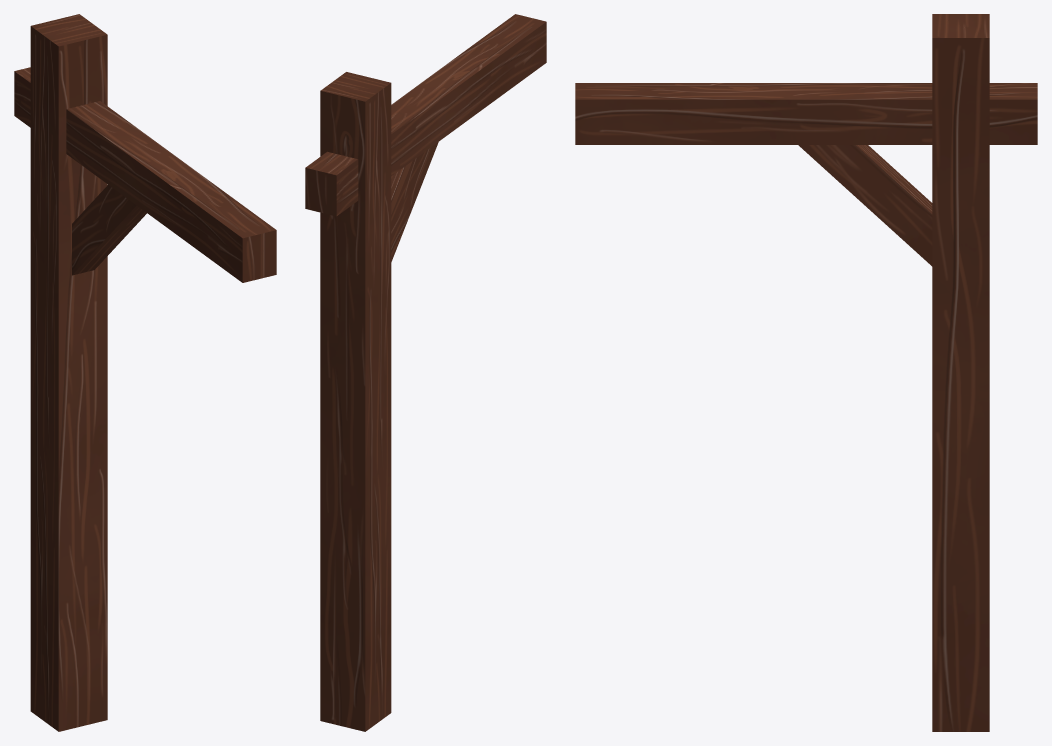
File: post.fbx
3 views of the same model, side by side, from view 1: azimuth 30°, elevation 25°; view 2: azimuth 150°, elevation 25°; view 3: azimuth 270°, elevation 25° (orthographic). The views are drawn at different scales.
Visible parts, largest first — view 1: pCube4; view 2: pCube4; view 3: pCube4.
Boxes of the visible parts, x1,y1,x2,y2 form: pCube4: (14, 14, 276, 731); pCube4: (305, 14, 546, 731); pCube4: (575, 14, 1037, 731).
Bounding box in the file's own units: 9.38 × 126 × 75.97.
